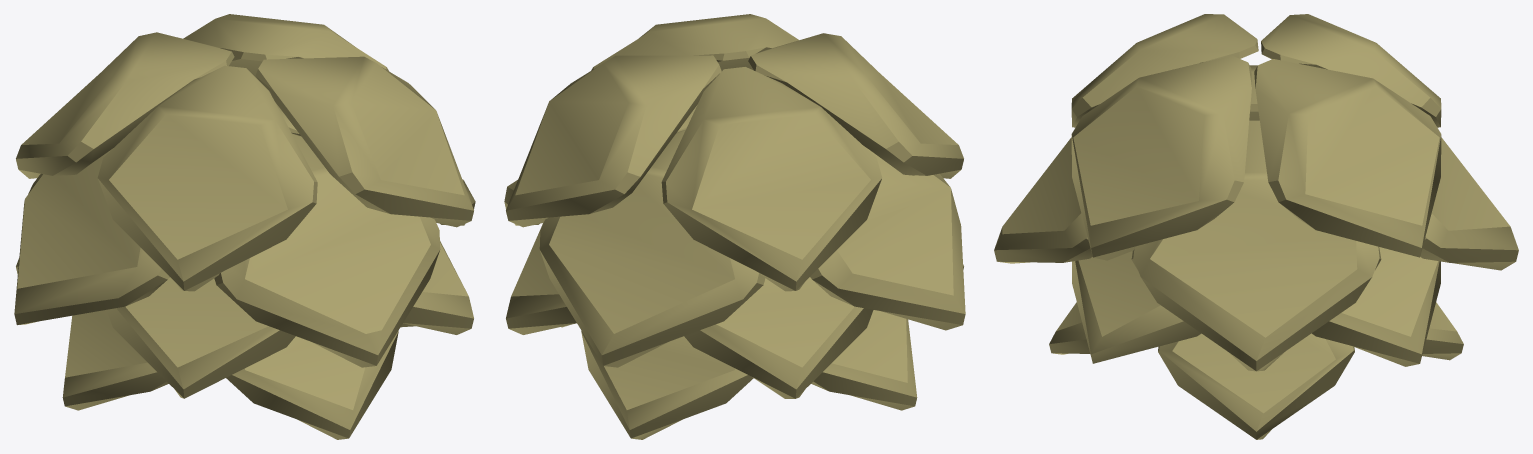
The model's file is bush-2.glb.
3 views of the same model, side by side, from view 1: azimuth 30°, elevation 25°; view 2: azimuth 150°, elevation 25°; view 3: azimuth 270°, elevation 25° (orthographic).
Parts seen in each view (by area): view 1: Bush; view 2: Bush; view 3: Bush.
Boxes of the visible parts, x1,y1,x2,y2 form: Bush: (14,14,475,439); Bush: (504,14,965,439); Bush: (994,14,1518,439).
Size of the model in its own units: 3.09 by 1.96 by 3.09.
Materials: 1 (1 with a texture image).
